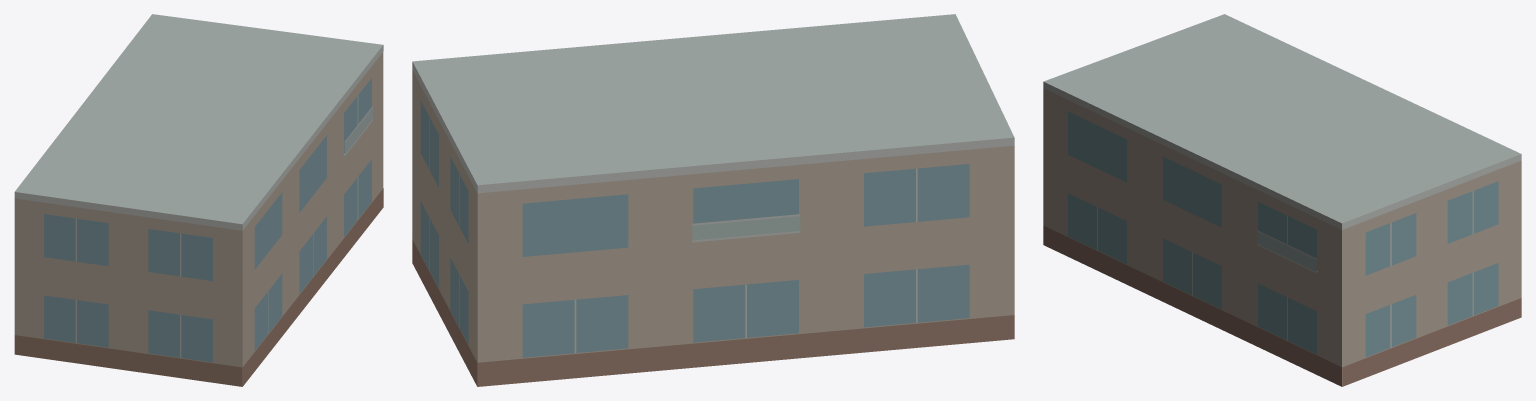
The model's file is survey-upis-32664626.glb.
3 renders of one model, left to right at view 1: azimuth 30°, elevation 25°; view 2: azimuth 150°, elevation 25°; view 3: azimuth 270°, elevation 25°, orthographic. The views are drawn at different scales.
Visible parts, largest first — view 1: survey-upis-32664626.tmp; view 2: survey-upis-32664626.tmp; view 3: survey-upis-32664626.tmp.
Part boxes in pixels (x1=…): survey-upis-32664626.tmp: x1=14, y1=14, x2=383, y2=386; survey-upis-32664626.tmp: x1=412, y1=14, x2=1014, y2=386; survey-upis-32664626.tmp: x1=1043, y1=14, x2=1521, y2=386.
Bounding box in the file's own units: 16.78 × 6.1 × 16.19.
